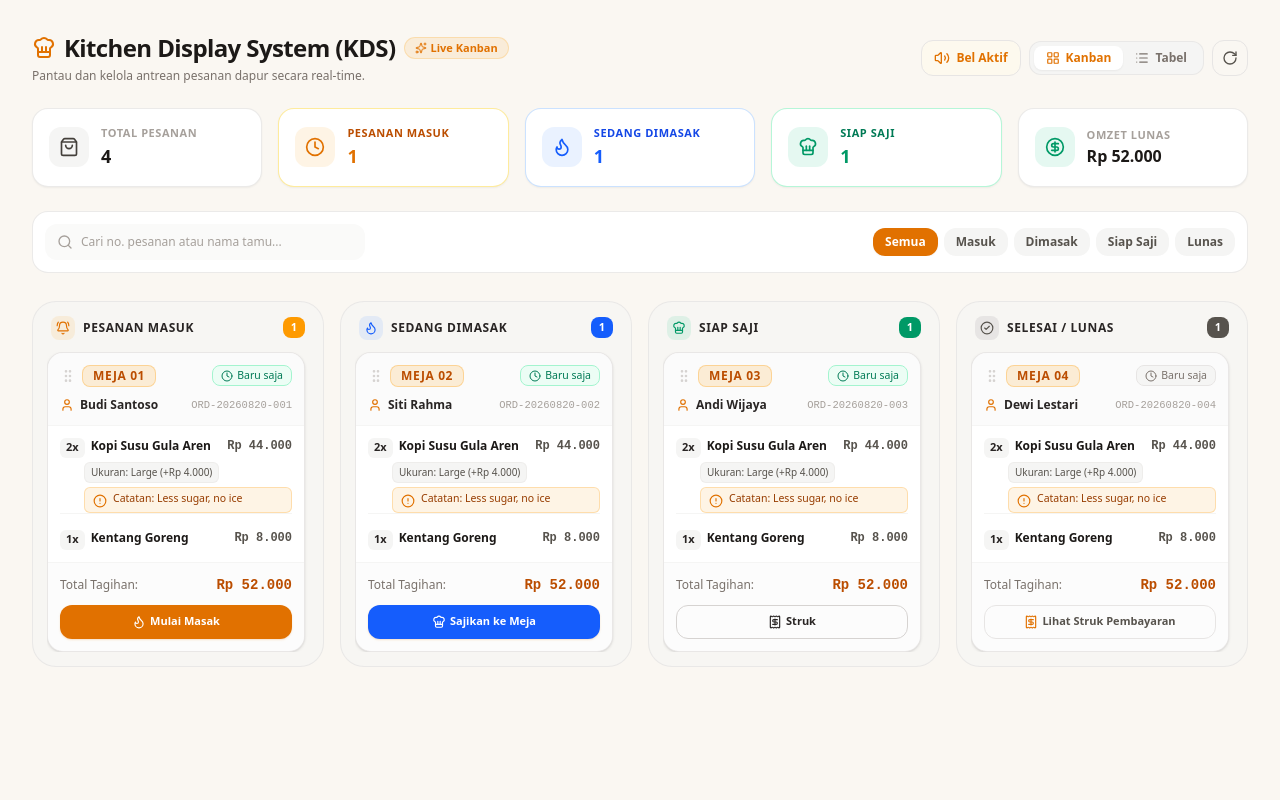
Scenario: Order Components › OrdersView (Master Kanban & Table Controller) › toggles audio sound chime on and off
This screenshot has width=1280, height=800.
Click the button "Bel Aktif": (971,58) [921, 40, 1021, 76]
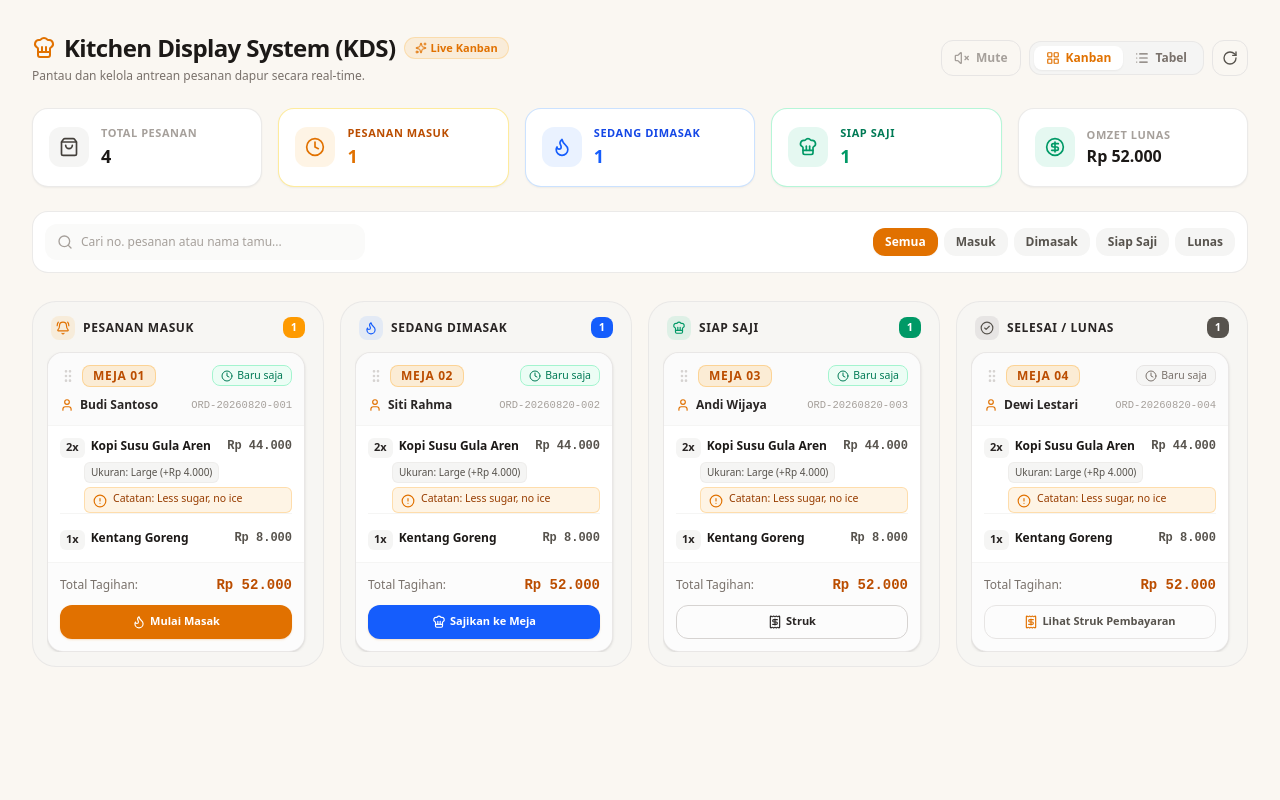
Expected: the text "Mute" is shown, [976, 50, 1008, 66]
